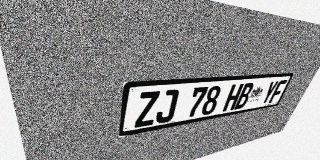7: (185, 87, 209, 119)
8: (200, 85, 223, 116)
B: (234, 83, 255, 110)
F: (268, 80, 287, 103)
H: (222, 83, 244, 112)
J: (155, 89, 180, 124)
Y: (259, 80, 279, 105)
Z: (134, 91, 160, 128)
